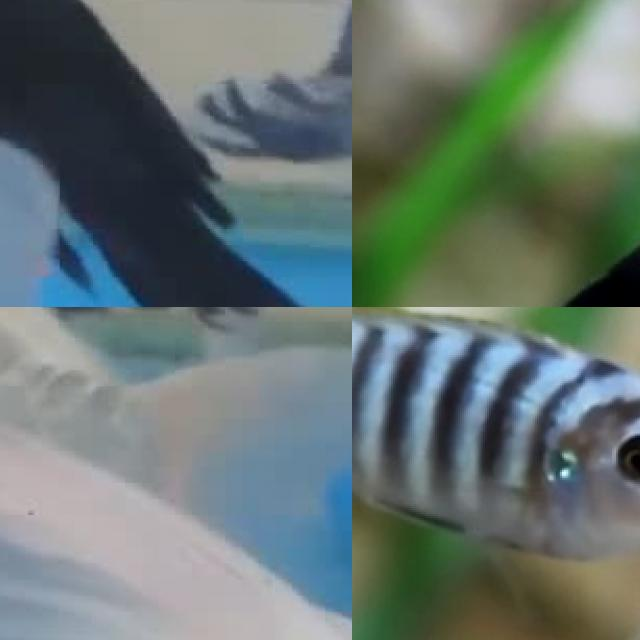fish: (0, 0, 352, 307), (352, 307, 640, 566)
